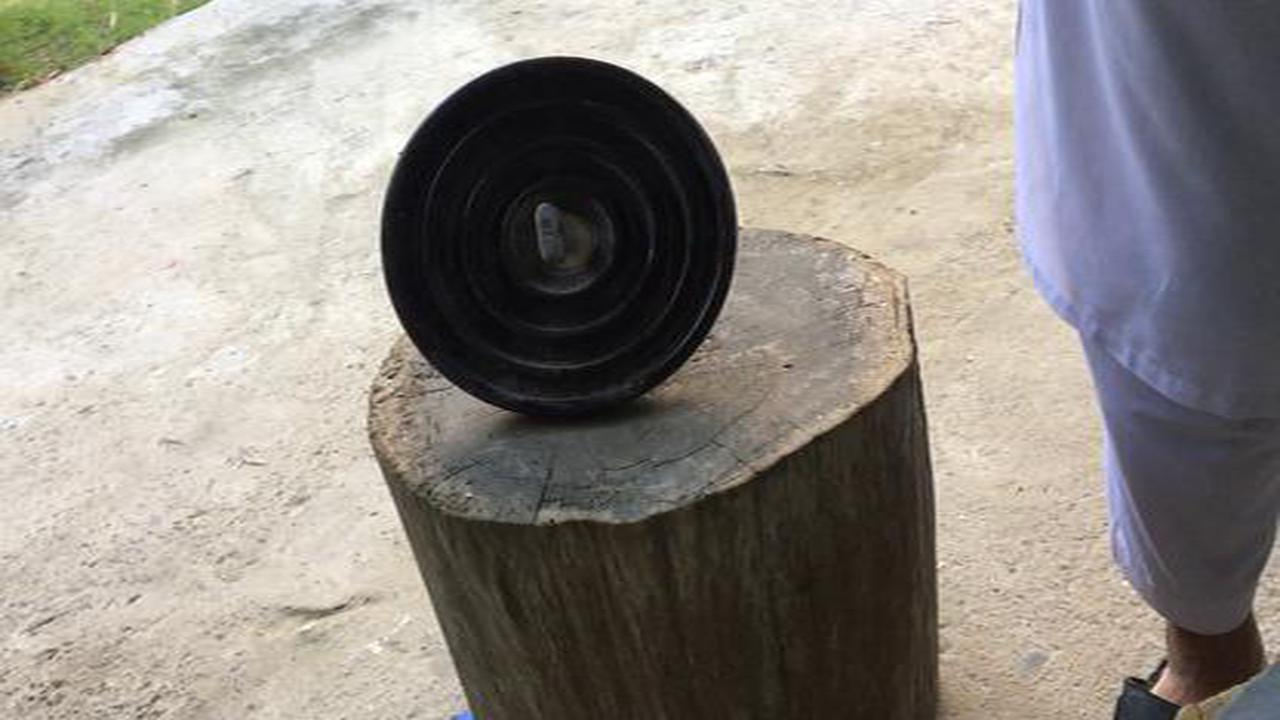insulator_disc: (376, 51, 742, 423)
